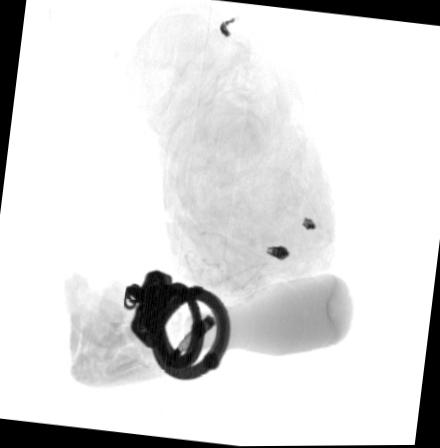Bullet: (160, 315, 214, 367)
HandCuffs: (122, 269, 232, 380)
